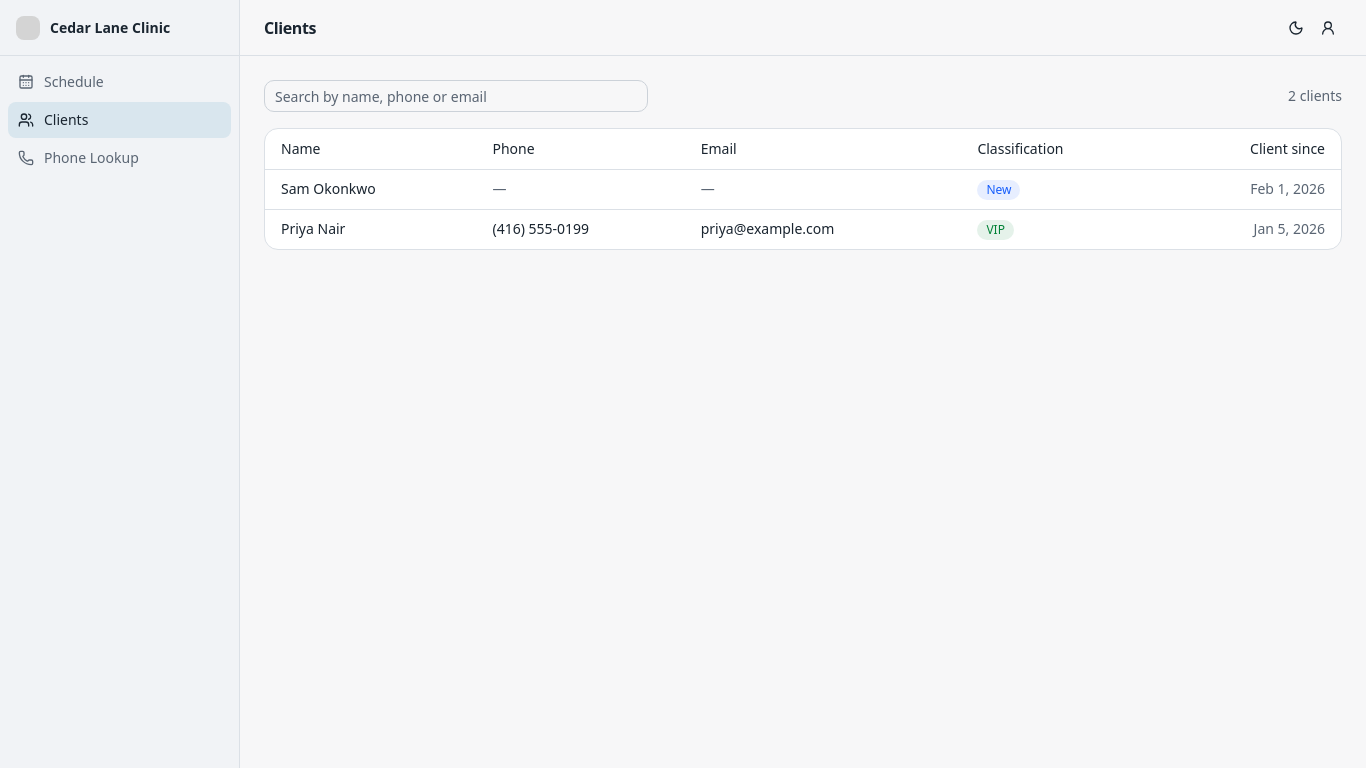
Test case: a row opens the profile, which loads client and visits in one request
Expected: the link "Priya Nair" is shown, [281,219,345,238]
Note: The cell, not the link: the whole row is the target.
Step 1. Click the text "(416) 555-0199" → (589, 229), box [484,209,693,249]
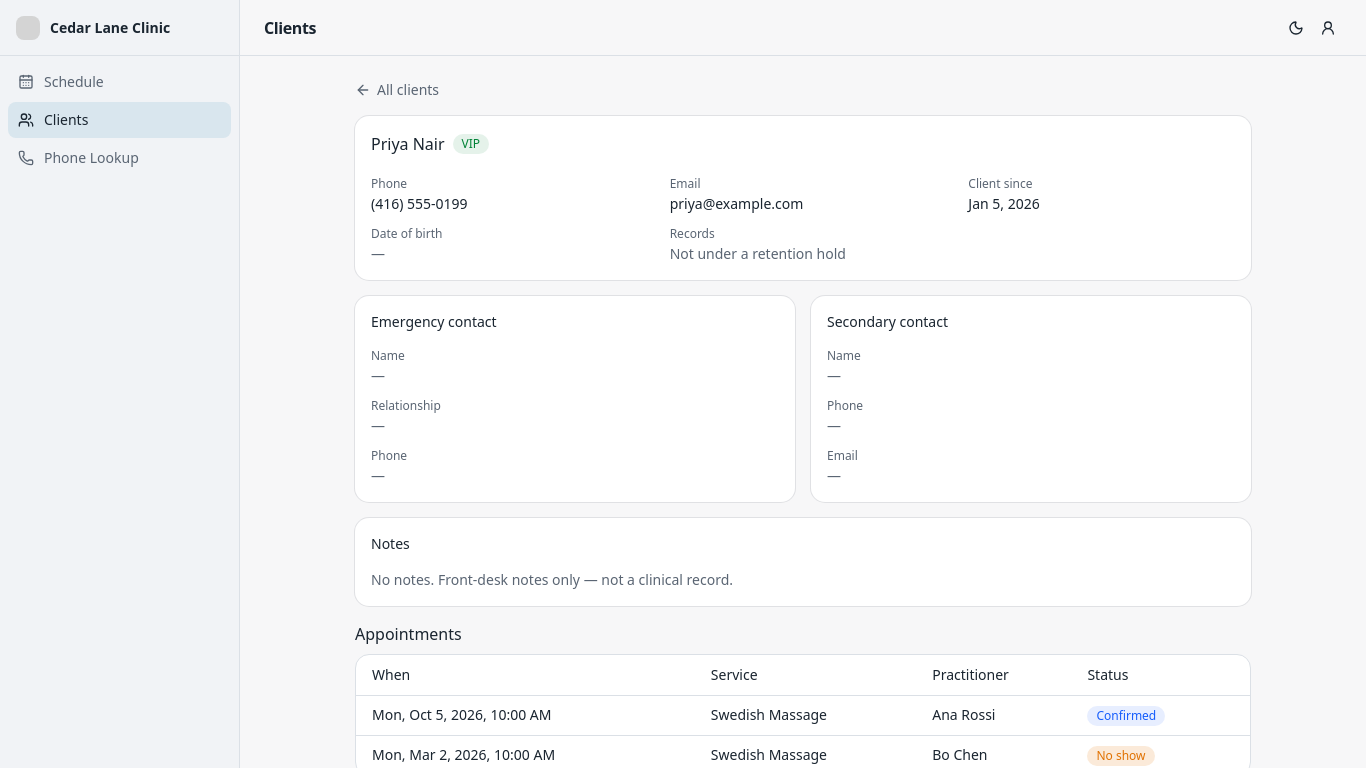
Expected: the text "Swedish Massage" next to "Mon, Oct 5, 2026, 10:00 AM" is shown, [711,705,827,724]
Expected: the text "Ana Rossi" is shown, [924,695,1080,735]
Expected: the text "Confirmed" is shown, [1087,706,1165,726]
